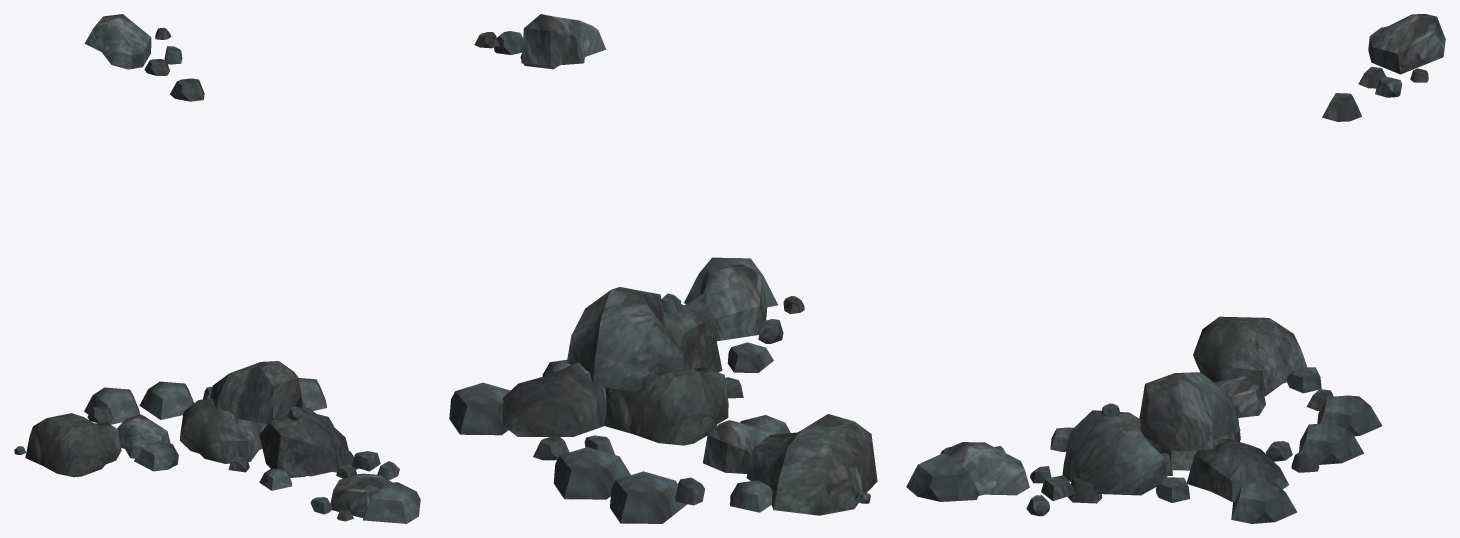
Rendered from object_rubble40.fbx.
3 views of the same model, side by side, from view 1: azimuth 30°, elevation 25°; view 2: azimuth 150°, elevation 25°; view 3: azimuth 270°, elevation 25° (orthographic). The views are drawn at different scales.
Parts seen in each view (by area): view 1: Material_#238683587/cliffside; view 2: Material_#238683587/cliffside; view 3: Material_#238683587/cliffside.
Boxes of the visible parts, x1,y1,x2,y2 form: Material_#238683587/cliffside: [14, 14, 420, 523]; Material_#238683587/cliffside: [449, 14, 877, 523]; Material_#238683587/cliffside: [906, 14, 1445, 523].
Bounding box in the file's own units: 7.2 × 8.39 × 9.5.
